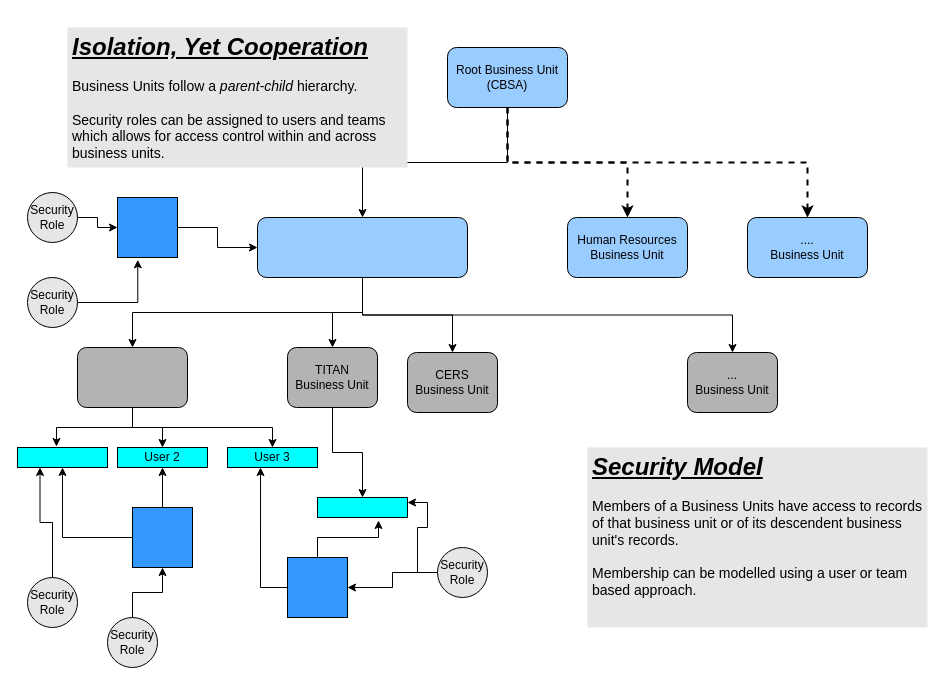
Some shapes in this 945 by 685 pixel diagram are drawn without their labels. The centre of each missing label's shape, as x and y in pixels:
ACROSS Business Unit: point (132, 377)
Information, Science & Technology Business Unit: point (362, 247)
Team A: point (162, 537)
Team B: point (317, 587)
Team Managment: point (147, 227)
User 1: point (62, 457)
User 4: point (362, 507)
